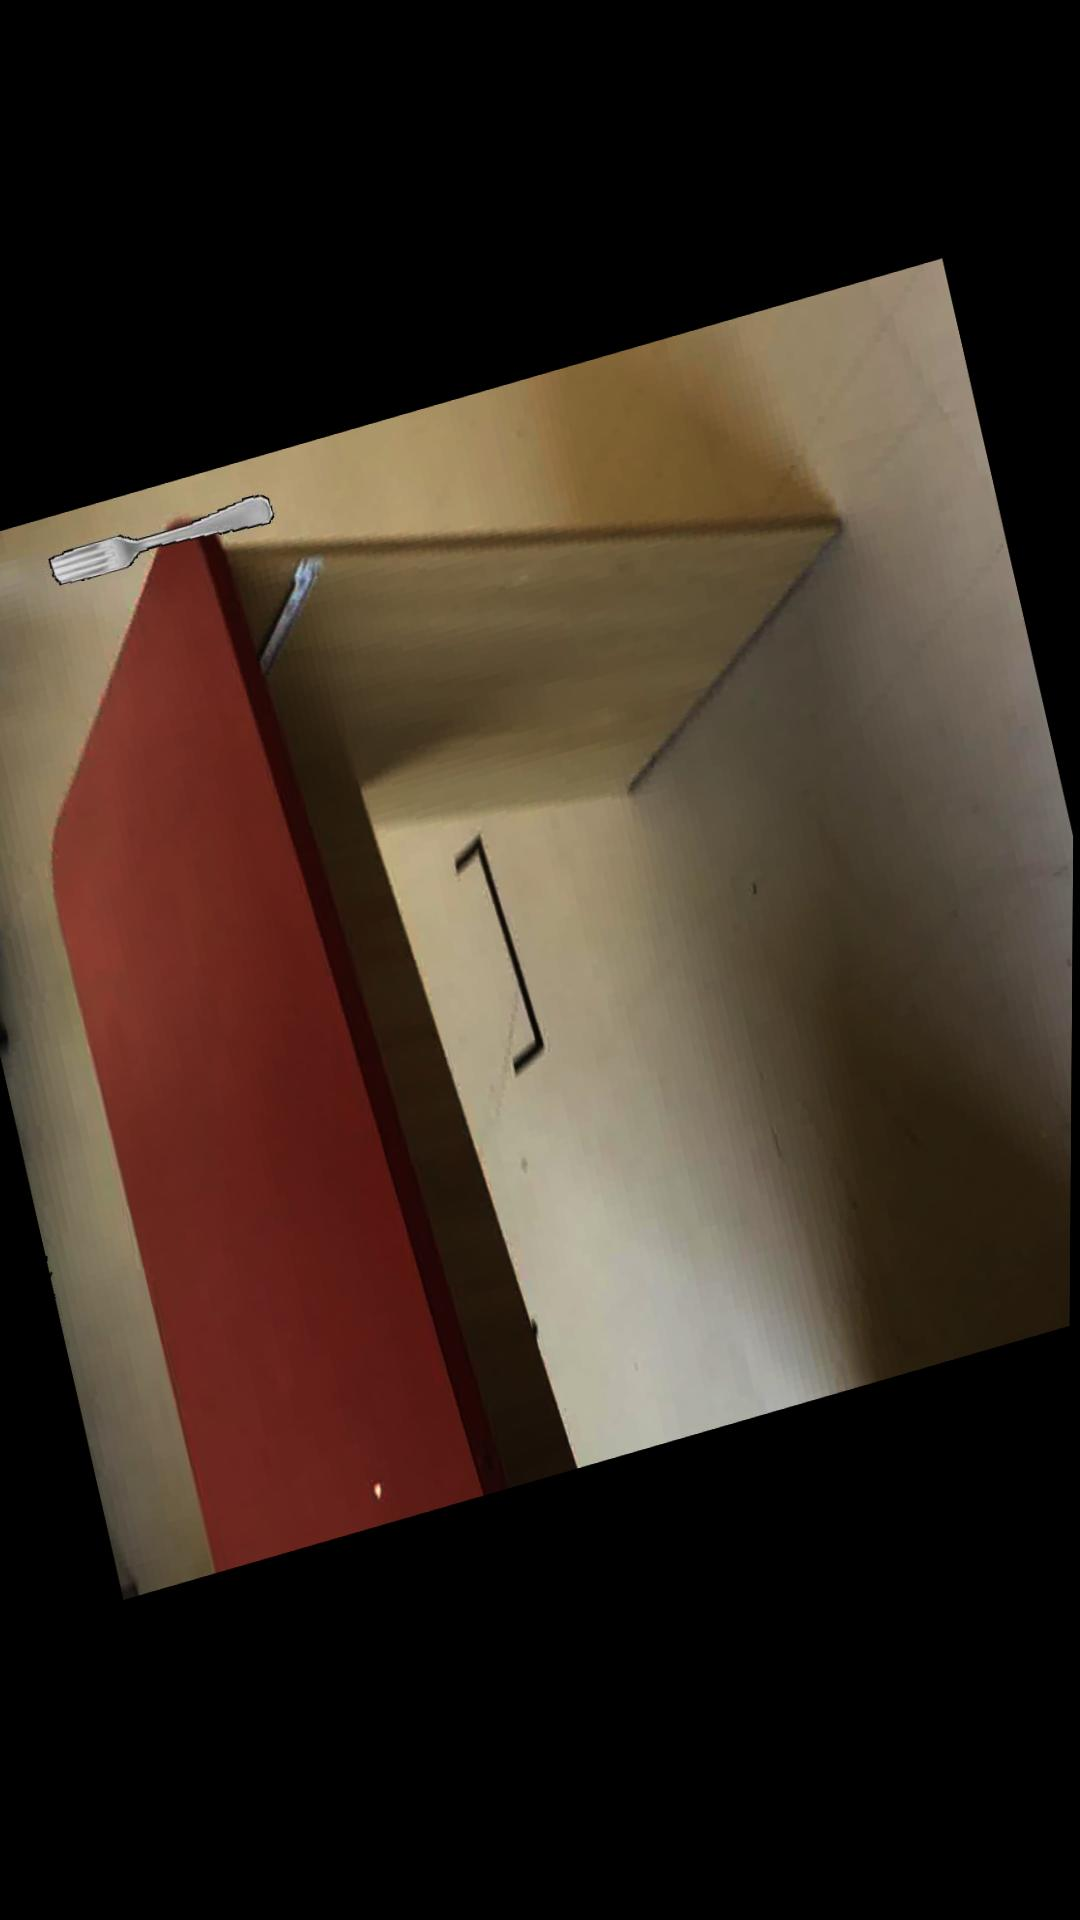fork: (47, 496, 273, 583)
